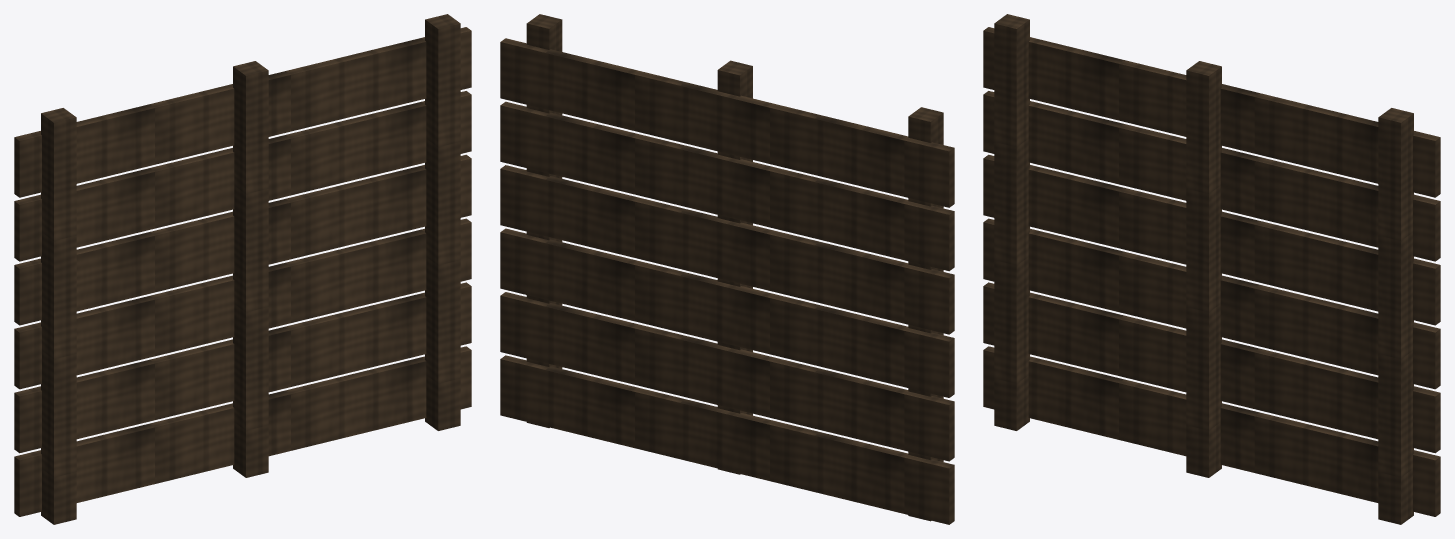
The model's file is revetment.glb.
3 views of the same model, side by side, from view 1: azimuth 30°, elevation 25°; view 2: azimuth 150°, elevation 25°; view 3: azimuth 330°, elevation 25° (orthographic).
Parts seen in each view (by area): view 1: revetment; view 2: revetment; view 3: revetment.
Boxes of the visible parts, bbox=[...] form: revetment: bbox=[14, 14, 471, 524]; revetment: bbox=[500, 14, 954, 524]; revetment: bbox=[983, 14, 1440, 524].
Size of the model in its own units: 2 by 1.7 by 0.13.
Materials: 1 (1 with a texture image).
